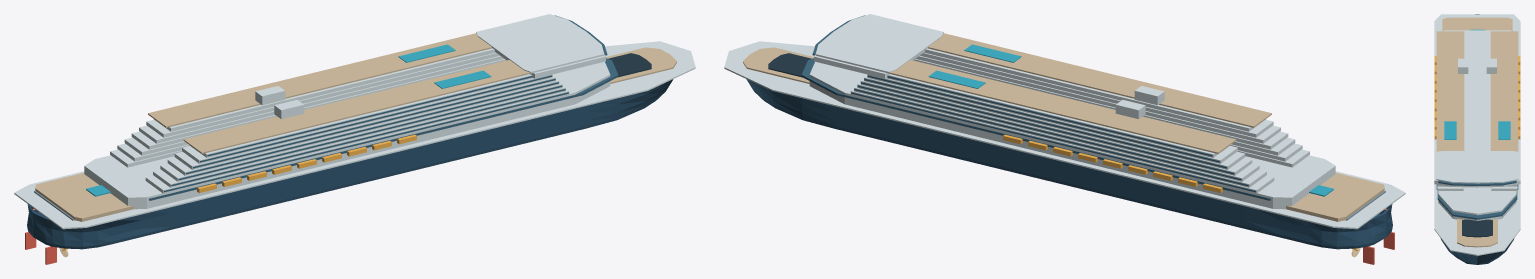
The model's file is oasis-of-the-seas-rc-100cm.glb.
3 renders of one model, left to right at view 1: azimuth 30°, elevation 25°; view 2: azimuth 150°, elevation 25°; view 3: azimuth 270°, elevation 25°, orthographic. The views are drawn at different scales.
Visible parts, largest first — view 1: Rompschaal (×5), Bovendek (×2), Gemeenschappelijke dekken, Dek 5 en boeg, Doorlopende balkonband (×7), Stuurhuisdak, Kajuitdek 7 (×2), Kajuitdek 5 (×2), Kajuitdek 6 (×2), Kajuitdek 4 (×2), Achterterrassen, Kajuitdek 1 (×2) (+9 smaller); view 2: Rompschaal (×5), Bovendek (×2), Gemeenschappelijke dekken, Dek 5 en boeg, Doorlopende balkonband (×7), Stuurhuisdak, Kajuitdek 7 (×2), Kajuitdek 5 (×2), Kajuitdek 6 (×2), Kajuitdek 4 (×2), Achterterrassen, Kajuitdek 1 (×2) (+9 smaller); view 3: Bovendek (×2), Gemeenschappelijke dekken, Dek 5 en boeg, Stuurhuisdak, Achterterrassen, Voordek, Helikopterdek, Buitenzwembad (×2), Donkere raamband, Rompschaal, Brugvleugels, Schoorsteen (×2) (+3 smaller).
Part boxes in pixels (left/top/right/bottom): Rompschaal (×5): left=27, top=79, right=673, bottom=249; Bovendek (×2): left=148, top=33, right=531, bottom=153; Gemeenschappelijke dekken: left=84, top=61, right=610, bottom=209; Dek 5 en boeg: left=14, top=41, right=695, bottom=229; Doorlopende balkonband (×7): left=164, top=75, right=568, bottom=192; Stuurhuisdak: left=476, top=14, right=604, bottom=73; Kajuitdek 7 (×2): left=154, top=48, right=533, bottom=157; Kajuitdek 5 (×2): left=139, top=55, right=555, bottom=169; Kajuitdek 6 (×2): left=146, top=52, right=552, bottom=163; Kajuitdek 4 (×2): left=131, top=59, right=559, bottom=175; Achterterrassen: left=35, top=173, right=133, bottom=221; Kajuitdek 1 (×2): left=110, top=89, right=569, bottom=193; Rompschaal (×5): left=746, top=79, right=1392, bottom=249; Bovendek (×2): left=888, top=33, right=1271, bottom=153; Gemeenschappelijke dekken: left=809, top=61, right=1335, bottom=209; Dek 5 en boeg: left=724, top=41, right=1405, bottom=229; Doorlopende balkonband (×7): left=851, top=75, right=1255, bottom=192; Stuurhuisdak: left=815, top=14, right=943, bottom=73; Kajuitdek 7 (×2): left=886, top=48, right=1265, bottom=157; Kajuitdek 5 (×2): left=864, top=55, right=1280, bottom=169; Kajuitdek 6 (×2): left=867, top=52, right=1273, bottom=163; Kajuitdek 4 (×2): left=860, top=59, right=1288, bottom=175; Achterterrassen: left=1286, top=173, right=1384, bottom=221; Kajuitdek 1 (×2): left=850, top=89, right=1309, bottom=193; Bovendek (×2): left=1436, top=31, right=1518, bottom=151; Gemeenschappelijke dekken: left=1438, top=30, right=1516, bottom=220; Dek 5 en boeg: left=1434, top=14, right=1520, bottom=255; Stuurhuisdak: left=1436, top=151, right=1518, bottom=183; Achterterrassen: left=1442, top=17, right=1512, bottom=31; Voordek: left=1457, top=219, right=1497, bottom=247; Helikopterdek: left=1462, top=219, right=1492, bottom=237; Buitenzwembad (×2): left=1444, top=121, right=1510, bottom=139; Donkere raamband: left=1437, top=191, right=1517, bottom=219; Rompschaal: left=1440, top=238, right=1514, bottom=264; Brugvleugels: left=1434, top=154, right=1520, bottom=187; Schoorsteen (×2): left=1458, top=58, right=1496, bottom=73.
Bounding box in the file's own units: 1 × 0.1445 × 0.151.
